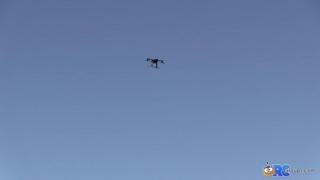UAV: (144, 58, 166, 68)
